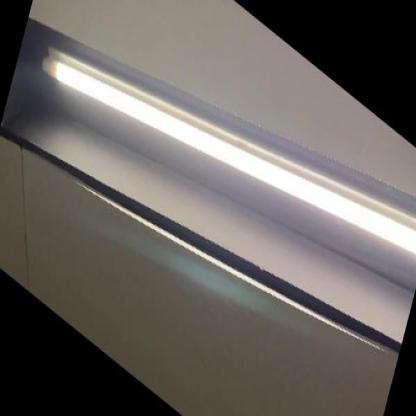light_on: (26, 0, 415, 392)
